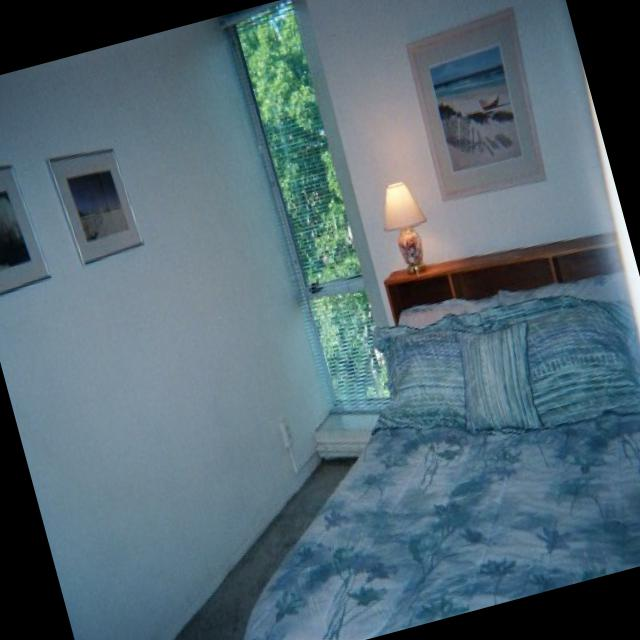2001: (230, 0, 392, 410)
bed -occluded-: (244, 224, 640, 640)
cushion occluded: (455, 317, 541, 432)
floor -X: (181, 393, 640, 640)
lamp crop: (386, 183, 423, 259)
picture crop: (405, 6, 547, 201), (48, 149, 140, 267), (0, 163, 48, 293)
wall clock: (0, 13, 334, 640), (287, 0, 640, 405)
